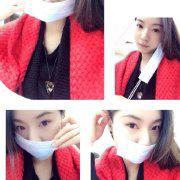NONE: (134, 23, 163, 55)
WRONG: (12, 113, 60, 161), (116, 116, 164, 164)
